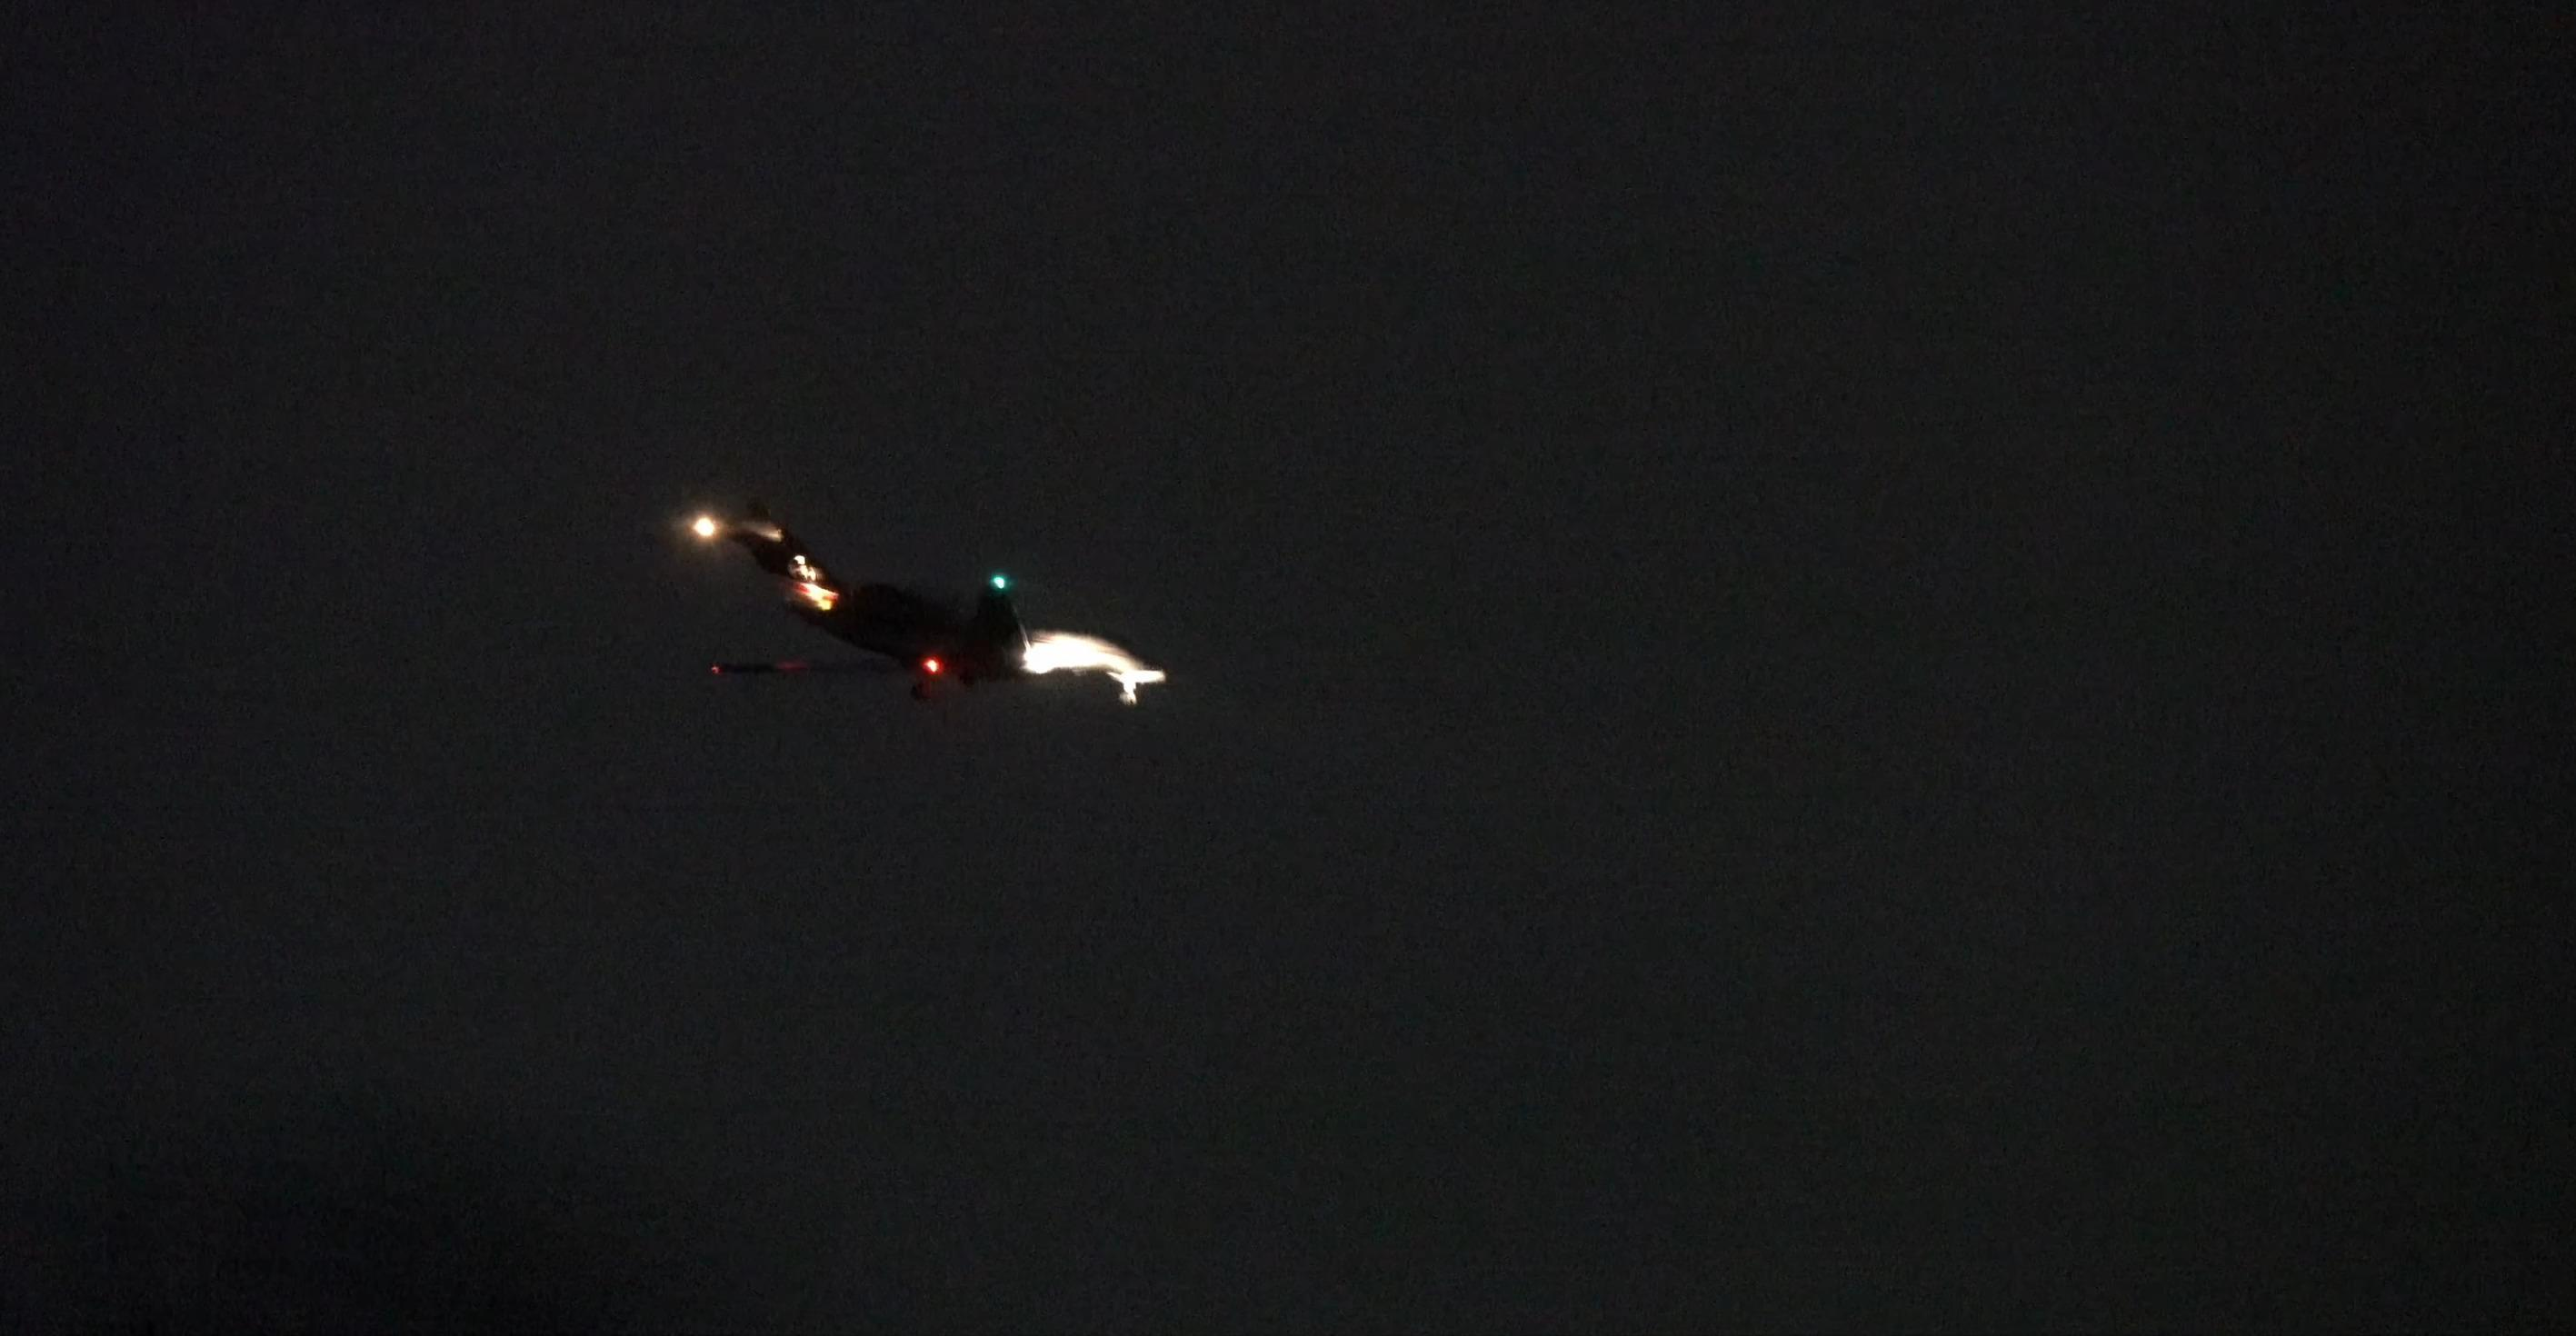Plane: (462, 474, 1366, 765)
